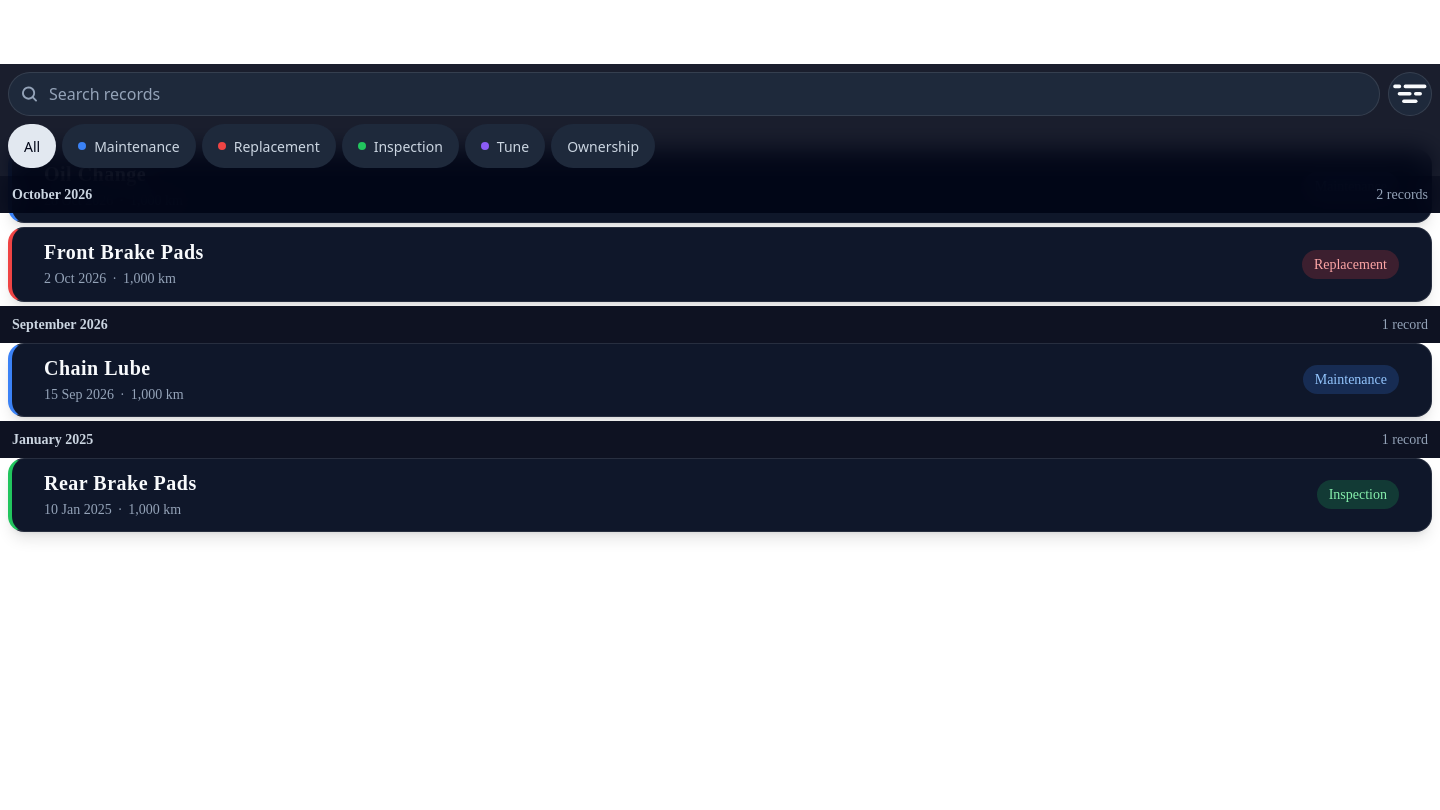
the sort/filter sheet lists each category once, even after records change
Click the button named "Sort and filter".
click(1410, 94)  # box 1388,72 -> 1432,116
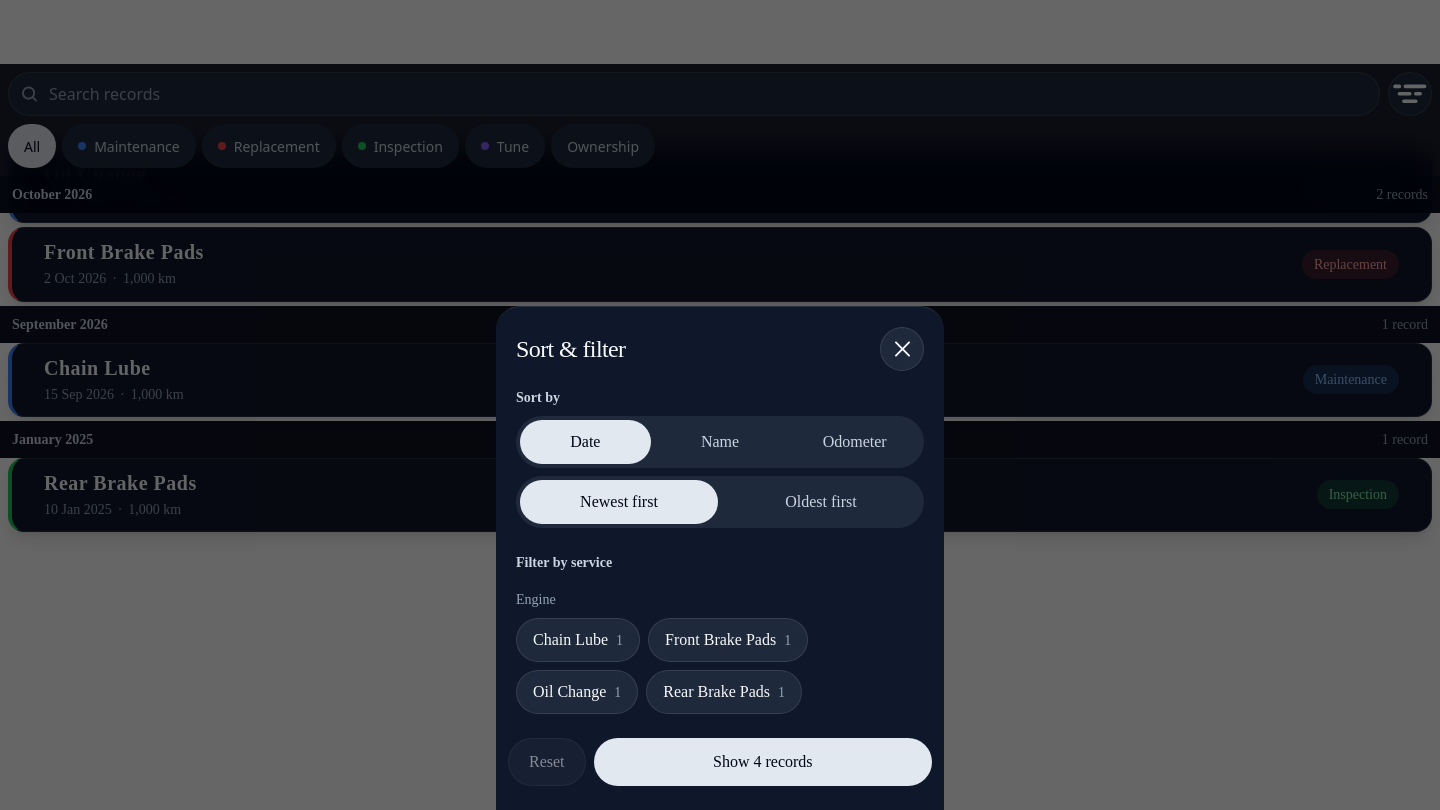
Now the number of elements "Engine" is 1, box 516,592 -> 808,714
